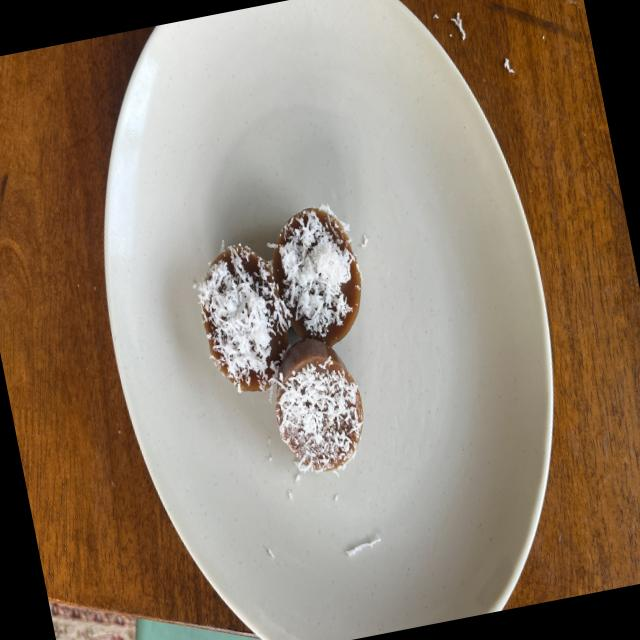Kuih lompang: (198, 245, 289, 392), (273, 206, 361, 346), (276, 338, 363, 472)
